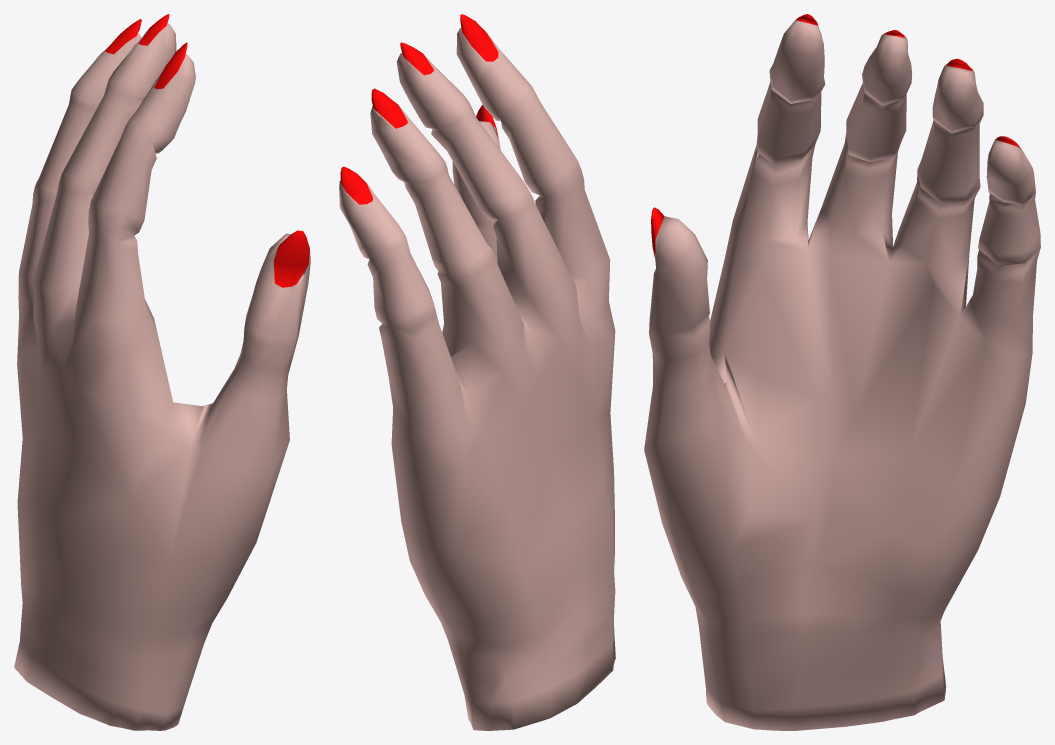
The picture shows the model from 3 angles, left to right: view 1: azimuth 30°, elevation 25°; view 2: azimuth 150°, elevation 25°; view 3: azimuth 270°, elevation 25°; orthographic projection. The views are drawn at different scales.
Parts seen in each view (by area): view 1: lHand:1_001; view 2: lHand:1_001; view 3: lHand:1_001.
Boxes of the visible parts, left/top/right/bottom form: lHand:1_001: left=14, top=14, right=310, bottom=730; lHand:1_001: left=339, top=14, right=615, bottom=730; lHand:1_001: left=644, top=14, right=1040, bottom=730.
Bounding box in the file's own units: 63.68 × 198 × 96.8.
